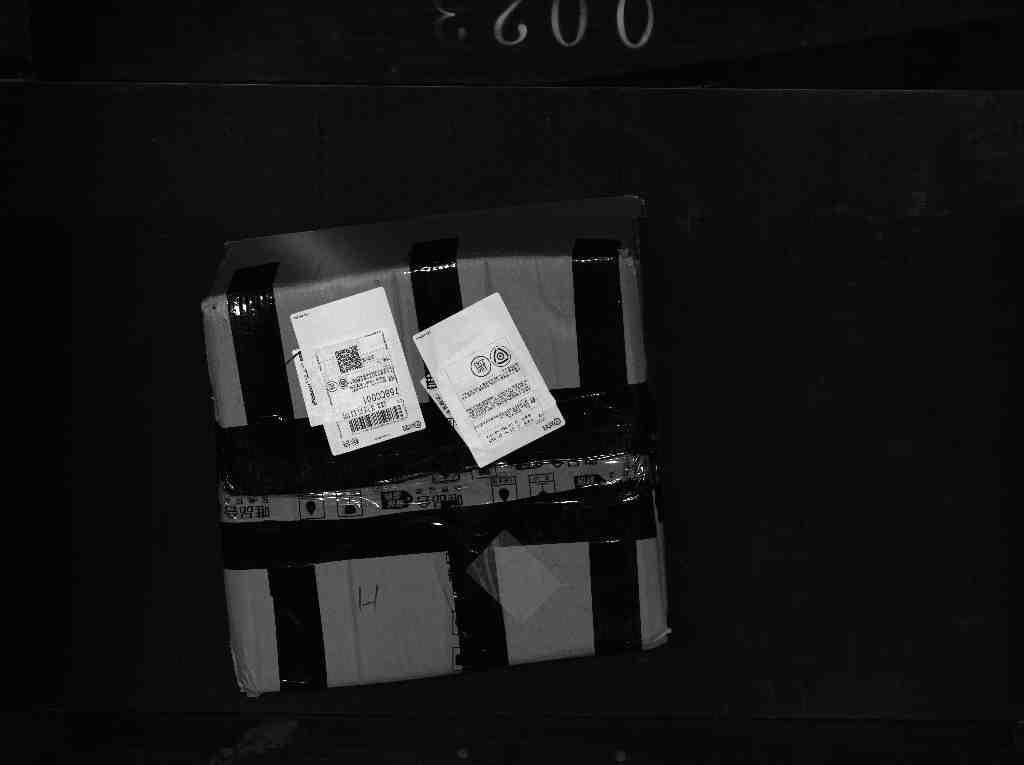box: (189, 204, 692, 706)
